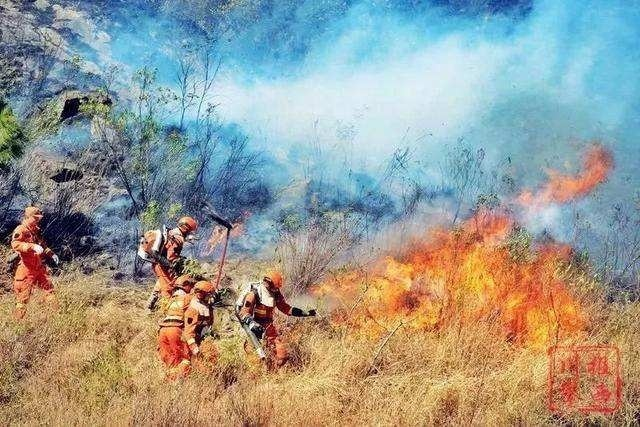fire: (297, 177, 631, 397), (11, 204, 48, 258)
